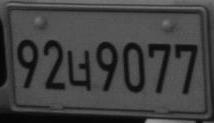0: (122, 40, 146, 93)
2: (42, 38, 66, 90)
7: (173, 43, 199, 94), (147, 42, 171, 94)
9: (15, 37, 39, 89), (94, 39, 118, 91)
너: (66, 48, 92, 92)
